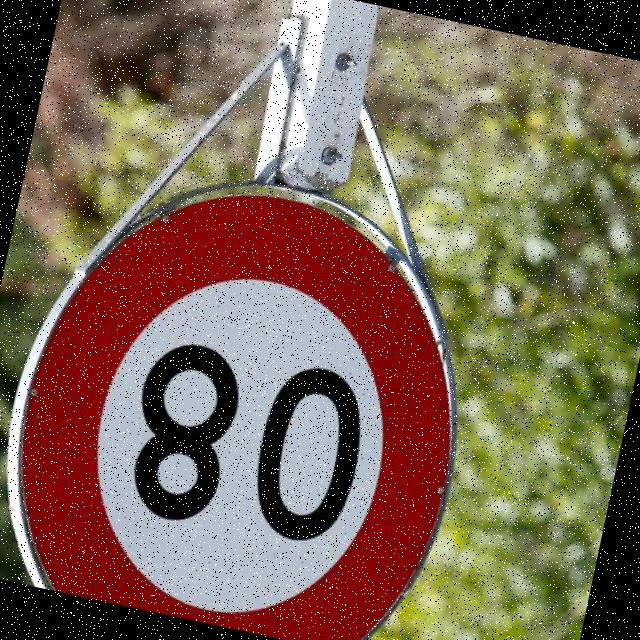speed_limit_80: (0, 145, 511, 640)
